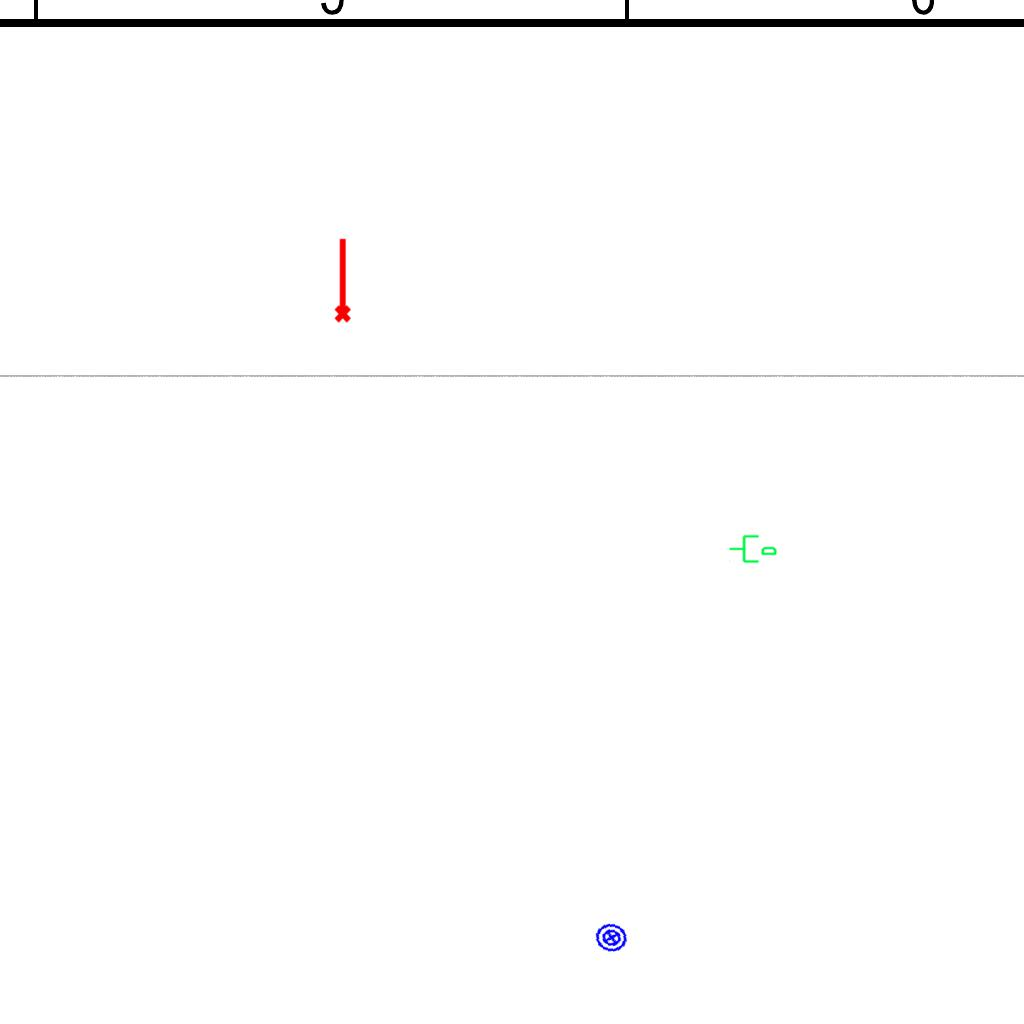ASR_Ansaugoeffnung: (330, 236, 353, 324)
Datenanschluss_einfach: (728, 531, 778, 565)
Taster_beleuchtet: (592, 918, 631, 957)
